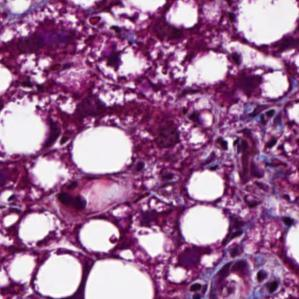inflammation: (244, 98, 286, 135), (249, 260, 287, 299), (184, 278, 212, 299)
